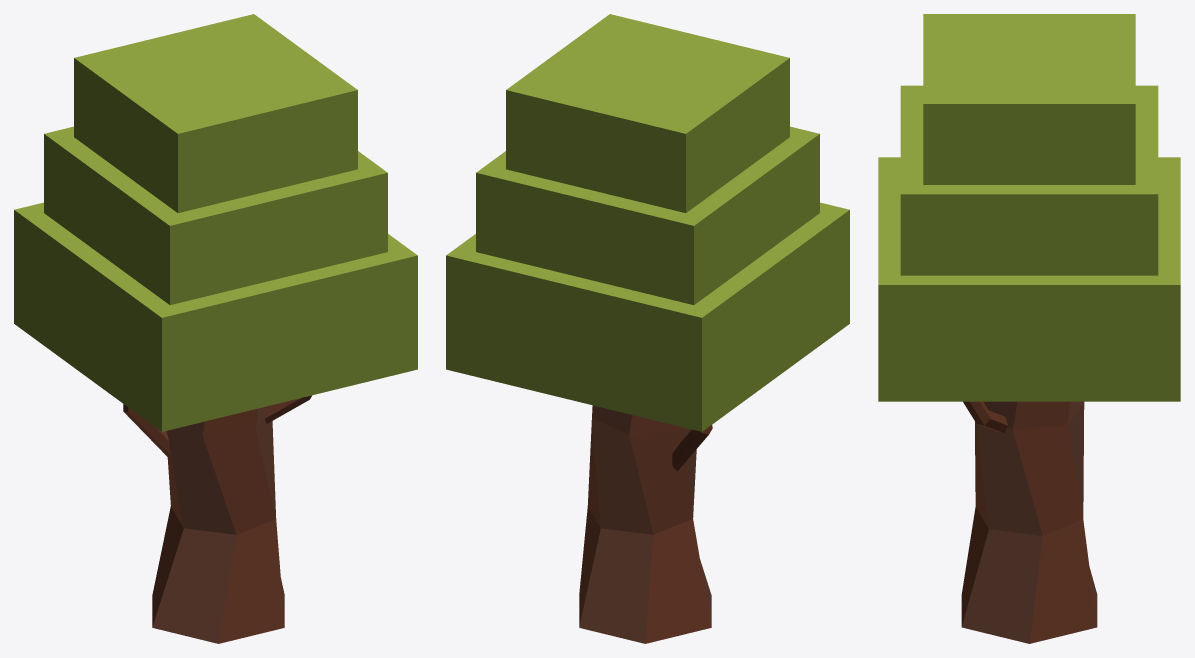
Rendered from tree4.fbx.
The picture shows the model from 3 angles, left to right: view 1: azimuth 30°, elevation 25°; view 2: azimuth 150°, elevation 25°; view 3: azimuth 270°, elevation 25°; orthographic projection. The views are drawn at different scales.
Parts seen in each view (by area): view 1: Ağaç4_Mesh; view 2: Ağaç4_Mesh; view 3: Ağaç4_Mesh.
Boxes of the visible parts, x1,y1,x2,y2 form: Ağaç4_Mesh: (14,14,417,643); Ağaç4_Mesh: (446,14,849,643); Ağaç4_Mesh: (878,14,1180,643).
Size of the model in its own units: 1.62 by 3.25 by 1.62.
